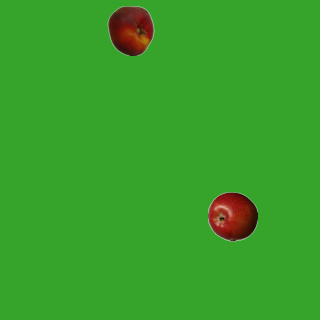Apple Braeburn: (207, 191, 257, 241)
Nectarine Flat: (105, 5, 155, 55)
